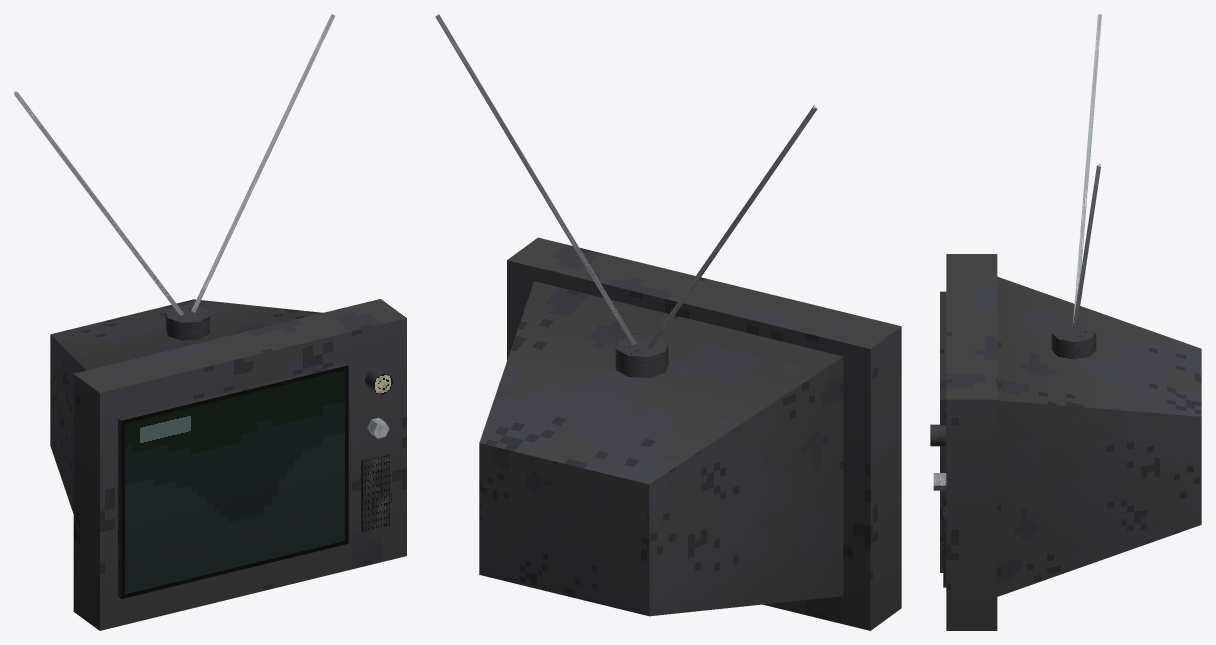
3 renders of one model, left to right at view 1: azimuth 30°, elevation 25°; view 2: azimuth 150°, elevation 25°; view 3: azimuth 270°, elevation 25°, orthographic. The views are drawn at different scales.
Parts seen in each view (by area): view 1: tv, tv_knob; view 2: tv; view 3: tv, tv_knob.
Part boxes in pixels (left/top/right/bottom): tv: left=14, top=14, right=406, bottom=630; tv_knob: left=365, top=367, right=393, bottom=394; tv: left=435, top=14, right=901, bottom=630; tv: left=933, top=14, right=1201, bottom=630; tv_knob: left=930, top=424, right=946, bottom=446.
Size of the model in its own units: 0.5657 by 0.8119 by 0.425.
Materials: 2 (2 with a texture image).
